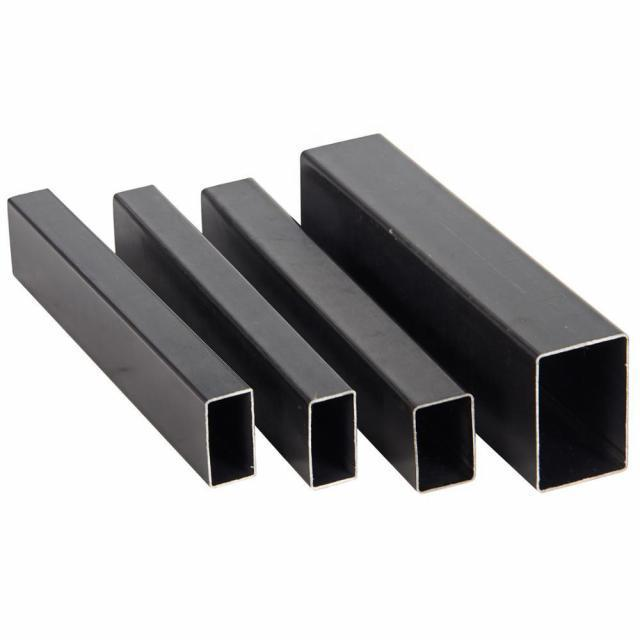pipe: (534, 330, 632, 499), (407, 389, 481, 499), (200, 387, 265, 490), (304, 388, 361, 494)
